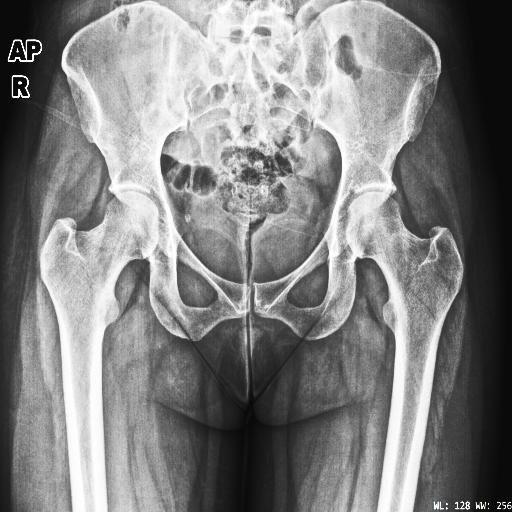normal: (40, 192, 160, 437), (346, 191, 464, 431)
